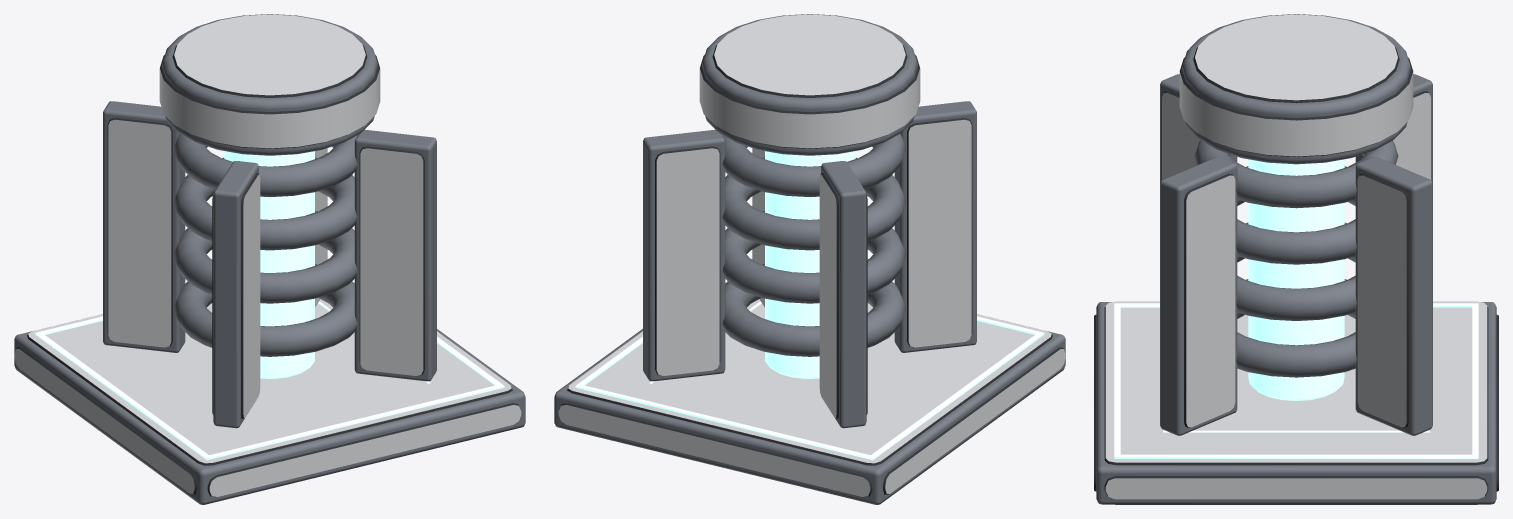
Rendered from R4X_EnergyRegenerator.fbx.
3 renders of one model, left to right at view 1: azimuth 30°, elevation 25°; view 2: azimuth 150°, elevation 25°; view 3: azimuth 270°, elevation 25°, orthographic. The views are drawn at different scales.
Visible parts, largest first — view 1: R4X_EnergyRegenerator_Body; view 2: R4X_EnergyRegenerator_Body; view 3: R4X_EnergyRegenerator_Body.
Boxes of the visible parts, box(x1,y1,x2,y2) form: R4X_EnergyRegenerator_Body: box(14, 14, 525, 504); R4X_EnergyRegenerator_Body: box(554, 14, 1065, 504); R4X_EnergyRegenerator_Body: box(1094, 14, 1498, 504).
Size of the model in its own units: 0.52 by 0.52 by 0.52.
